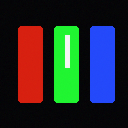4 line_v: (65, 35, 69, 67)
